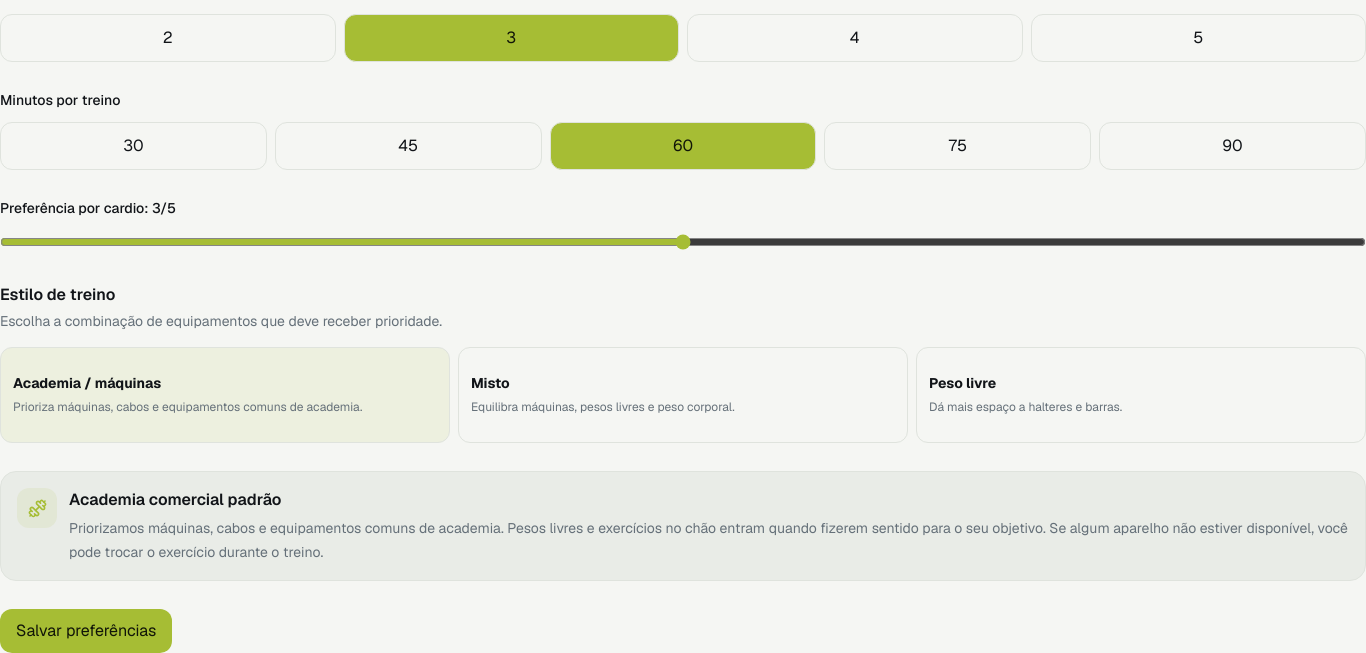
it: PreferencesForm v2.2.1 › offers a new-plan preview after saving unchanged preferences
(page scrolled)
Step 1. Click the button "Salvar preferências" → (86, 631), box x1=0 y1=609 x2=172 y2=652
(page scrolled)
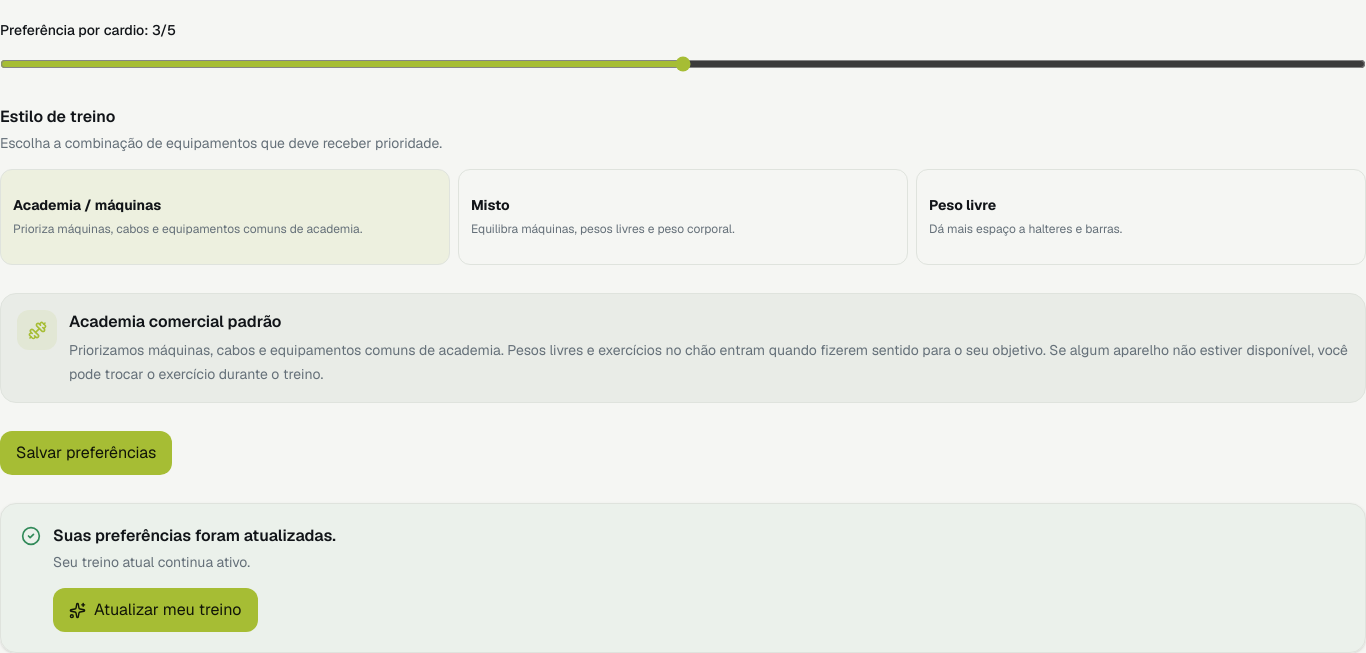
Now the text "Seu treino atual continua ativo." is shown, box x1=53 y1=553 x2=250 y2=571
Now the button "Atualizar meu treino" is shown, box x1=53 y1=588 x2=258 y2=632
